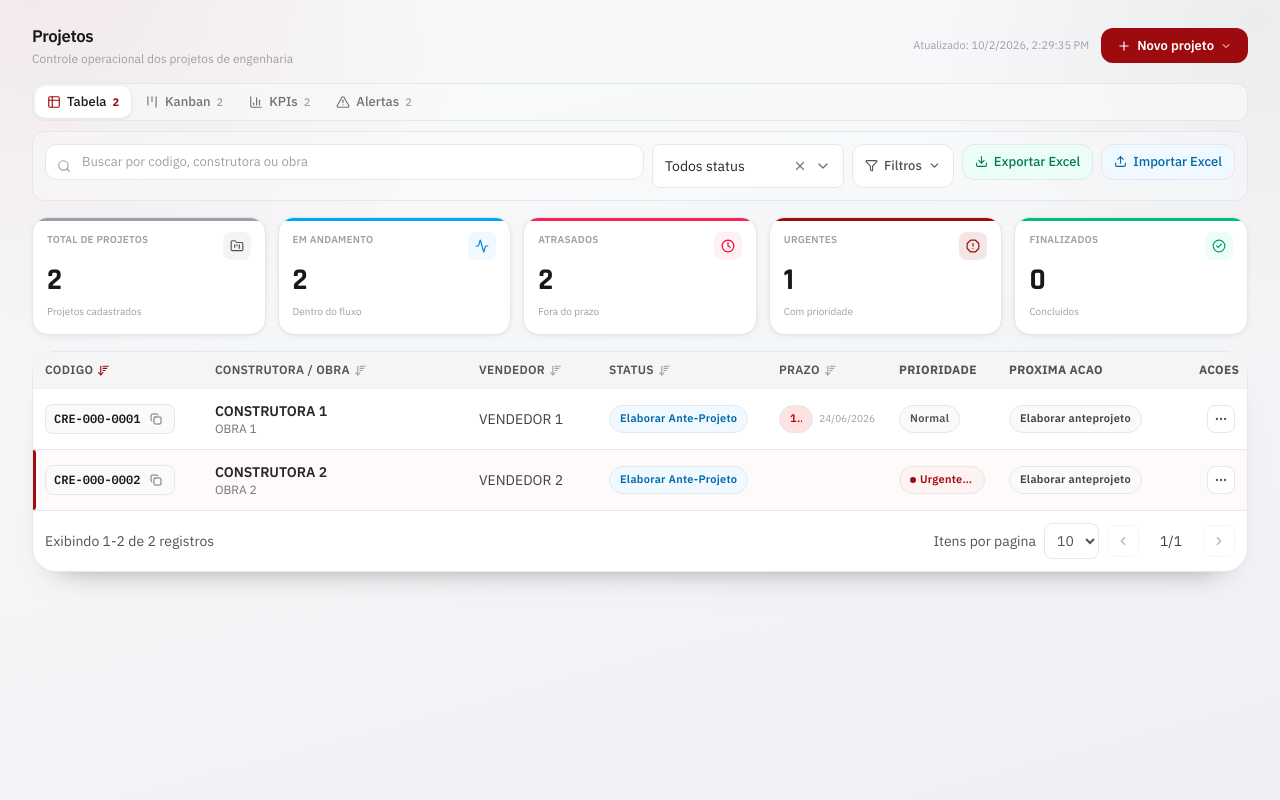
it: Remover urgência — só o pedido de urgência sai do navegador › sucesso: sem a observação 'Urgencia removida por…' nem e-mail pelo cliente
The image size is (1280, 800).
Step 1. Click the button named "Abrir acoes do projeto" in the row of "CRE-000-0002" → (1221, 480), box left=1207, top=466, right=1235, bottom=494
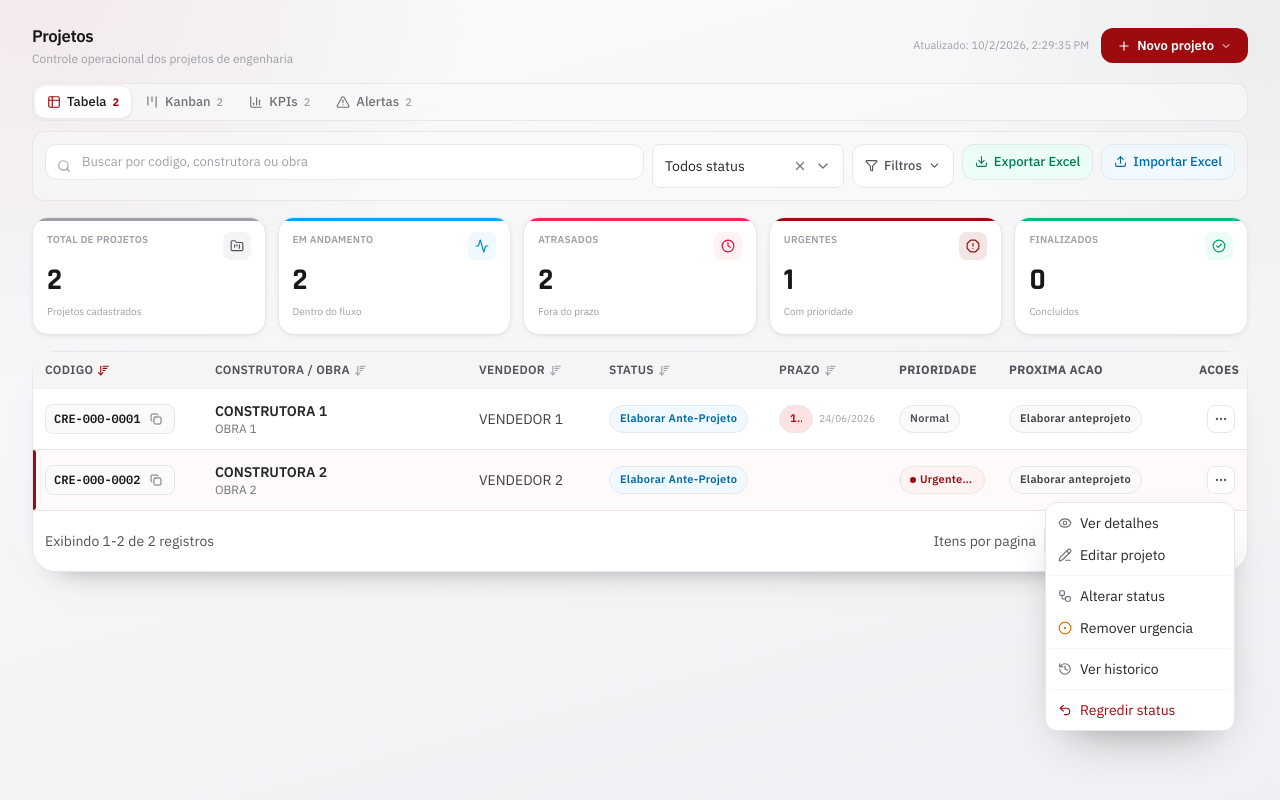
Step 2. Click the menu item "Remover urgencia" → (1126, 628), box left=1058, top=619, right=1193, bottom=637
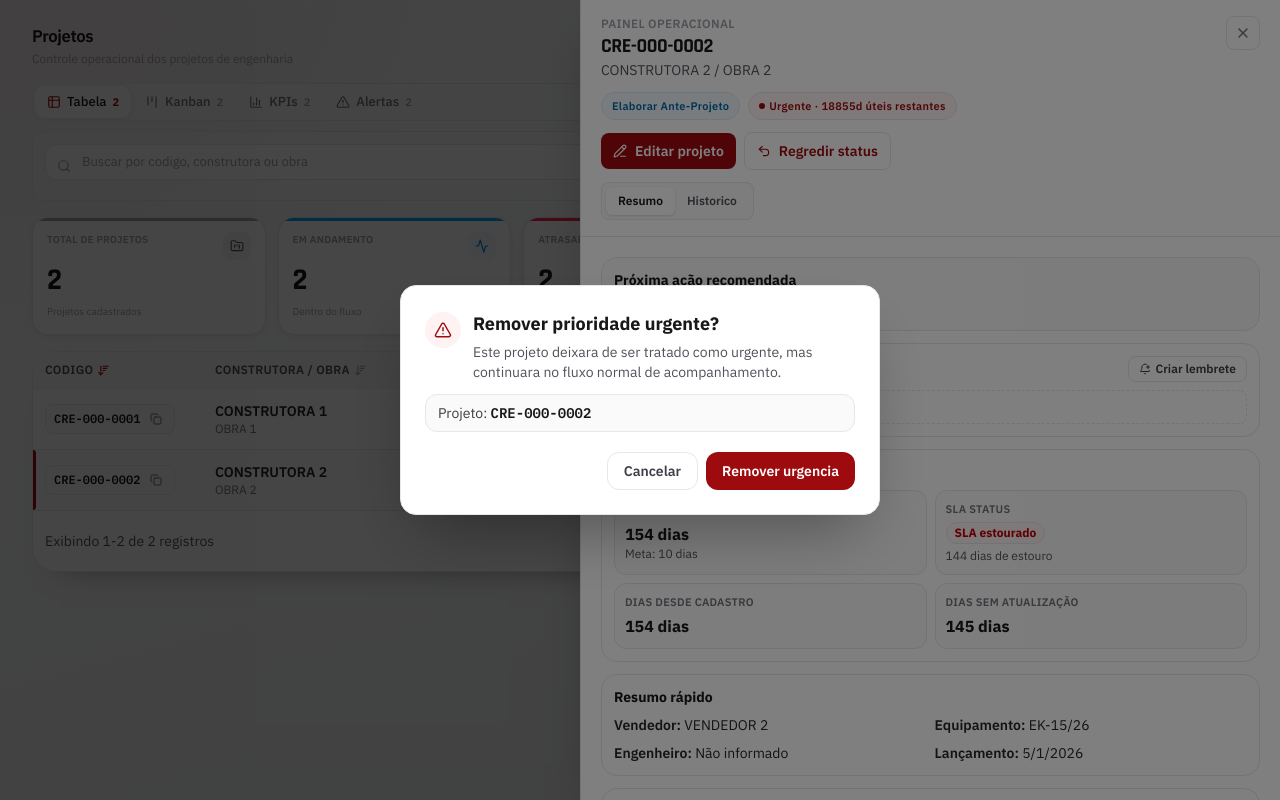
Step 3. Click the button "Remover urgencia" → (781, 471), box left=706, top=452, right=855, bottom=490
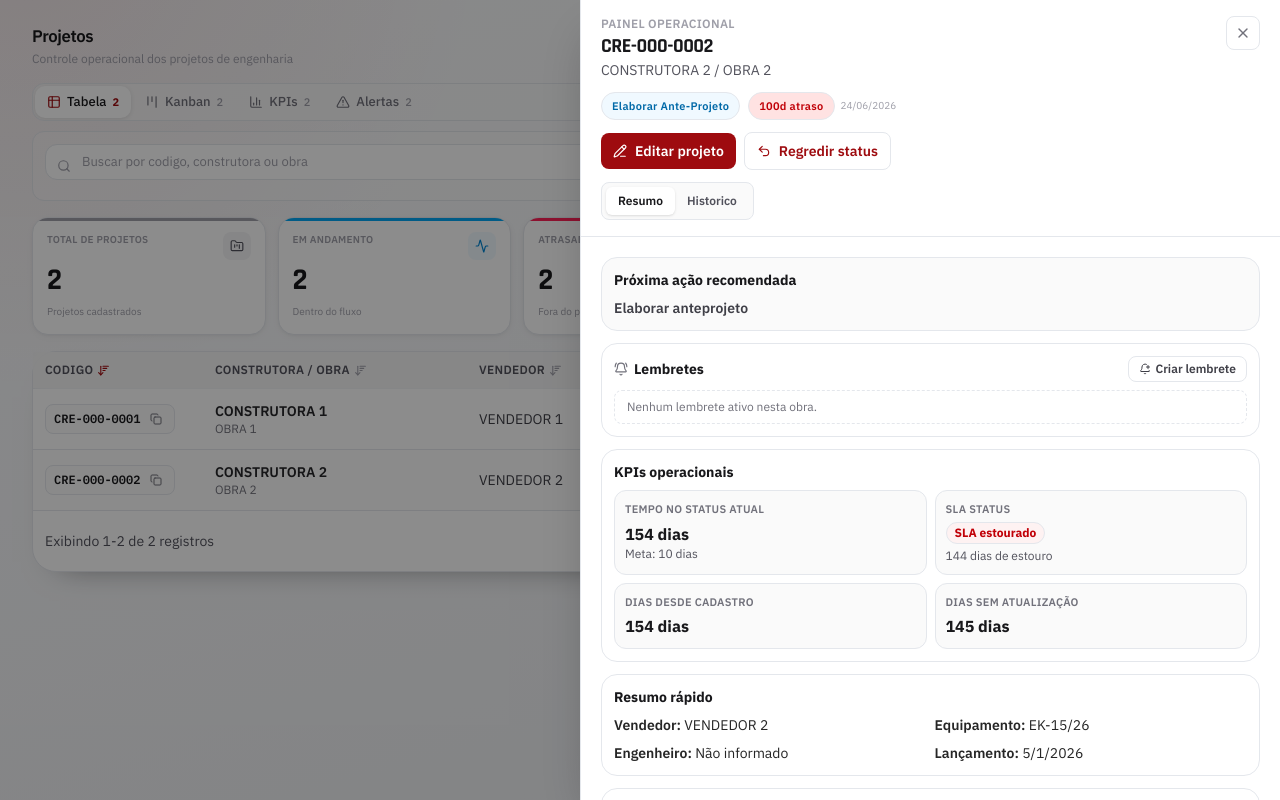
Check: the text "Urgencia removida do projeto." is shown, box left=1044, top=748, right=1264, bottom=784
